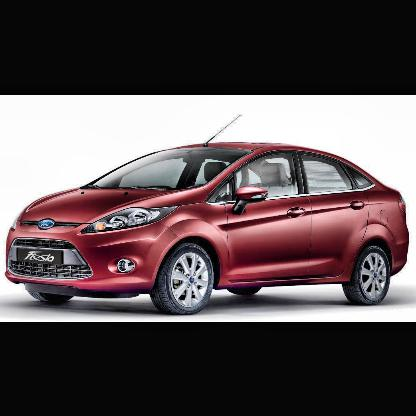Ford Fiesta Sedan 2012: (5, 112, 411, 316)
